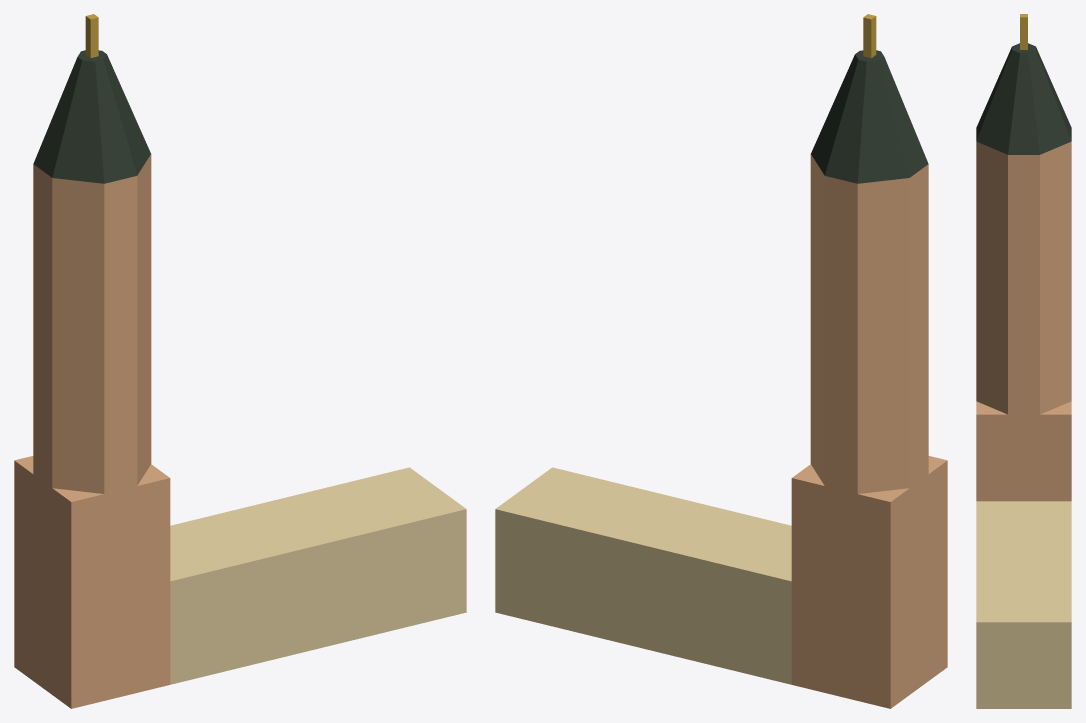
The model's file is iglesia_san_sebastian.glb.
3 views of the same model, side by side, from view 1: azimuth 30°, elevation 25°; view 2: azimuth 150°, elevation 25°; view 3: azimuth 270°, elevation 25° (orthographic). The views are drawn at different scales.
Parts seen in each view (by area): view 1: Plane; view 2: Plane; view 3: Plane.
Part boxes in pixels (<box>): Plane: <box>14,14,466,708</box>; Plane: <box>495,14,947,708</box>; Plane: <box>976,14,1071,708</box>.
Bounding box in the file's own units: 32 × 51 × 8.
